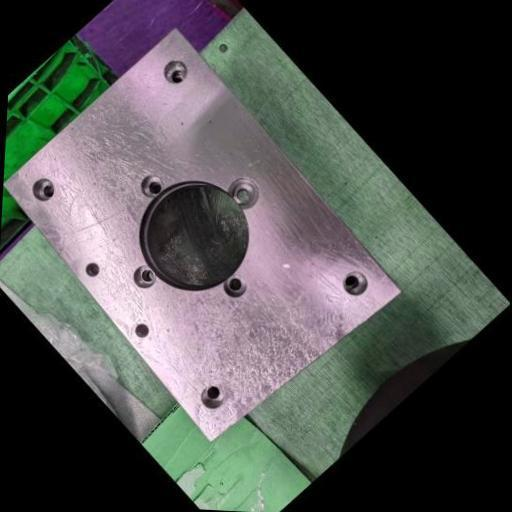hole: (216, 163, 274, 221), (150, 46, 200, 96), (190, 374, 238, 422), (132, 162, 180, 210), (120, 252, 168, 300), (212, 263, 258, 311), (332, 260, 378, 306), (21, 168, 65, 211), (125, 313, 160, 349), (76, 252, 109, 286)
